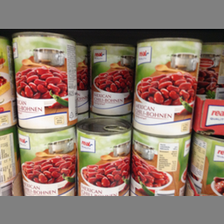beans: (135, 38, 202, 139), (11, 31, 78, 131), (76, 118, 131, 196), (17, 131, 76, 196), (135, 131, 191, 195), (88, 42, 133, 116)
